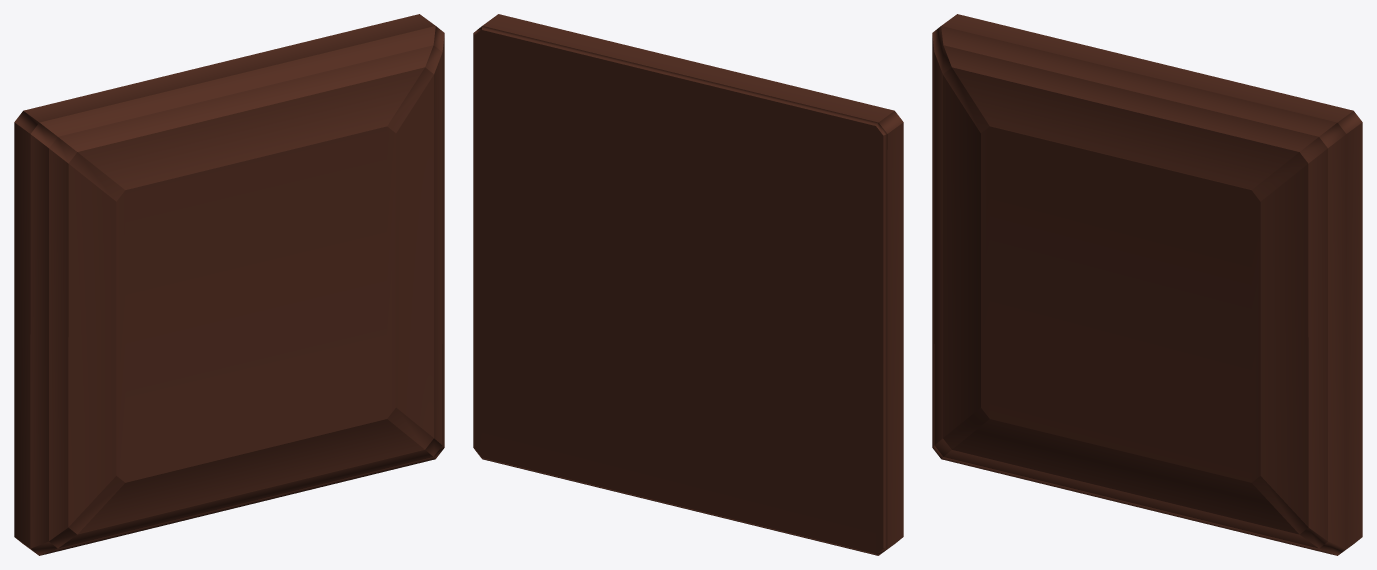
Rendered from MeshFootstool_1_1_0_GeomSubset_1.obj.
3 views of the same model, side by side, from view 1: azimuth 30°, elevation 25°; view 2: azimuth 150°, elevation 25°; view 3: azimuth 330°, elevation 25° (orthographic).
Visible parts, largest first — view 1: MeshFootstool_1_1_0_GeomSubset_1; view 2: MeshFootstool_1_1_0_GeomSubset_1; view 3: MeshFootstool_1_1_0_GeomSubset_1.
Part boxes in pixels (box(x1,y1,x2,y2)): MeshFootstool_1_1_0_GeomSubset_1: box(14, 14, 444, 555); MeshFootstool_1_1_0_GeomSubset_1: box(473, 14, 903, 555); MeshFootstool_1_1_0_GeomSubset_1: box(932, 14, 1362, 555).
Bounding box in the file's own units: 0.2673 × 0.2673 × 0.0408.
